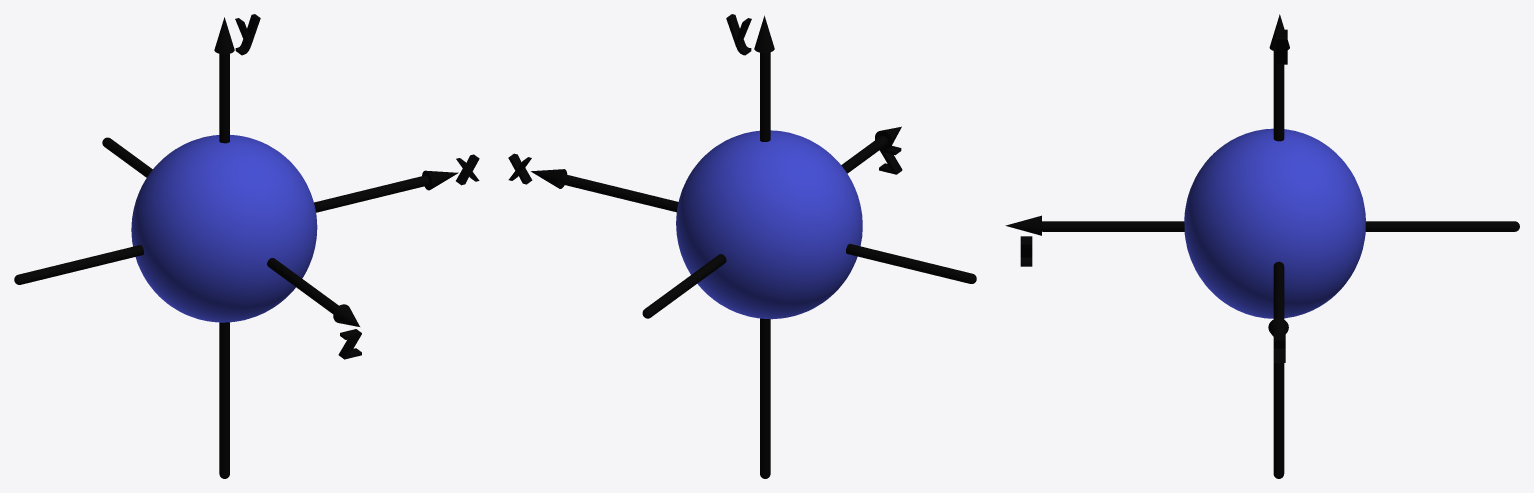
Rendered from sorbital.fbx.
The picture shows the model from 3 angles, left to right: view 1: azimuth 30°, elevation 25°; view 2: azimuth 150°, elevation 25°; view 3: azimuth 270°, elevation 25°; orthographic projection.
Parts seen in each view (by area): view 1: root (×4), node_id123, node_id137; view 2: root (×4), node_id123; view 3: root (×4).
Part boxes in pixels (bbox=[...]): root (×4): bbox=[14, 53, 429, 478]; node_id123: bbox=[235, 14, 260, 55]; node_id137: bbox=[338, 329, 361, 359]; root (×4): bbox=[559, 52, 976, 478]; node_id123: bbox=[726, 14, 751, 55]; root (×4): bbox=[1042, 51, 1519, 478].
Size of the model in its own units: 0.696 by 0.6636 by 0.6664.
6 materials, 2 textured.
